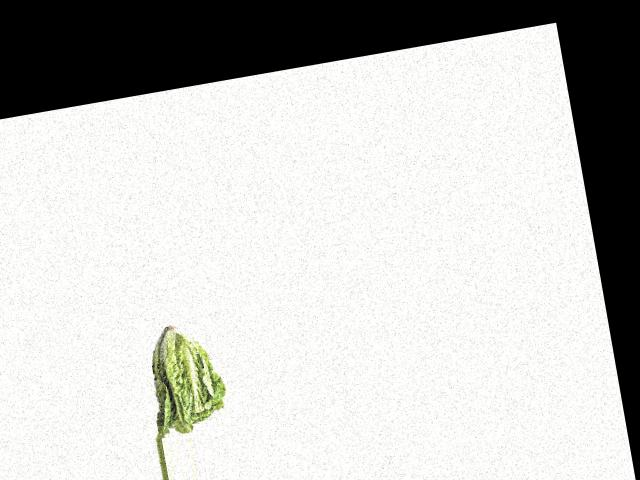lettuce: (140, 320, 235, 438)
